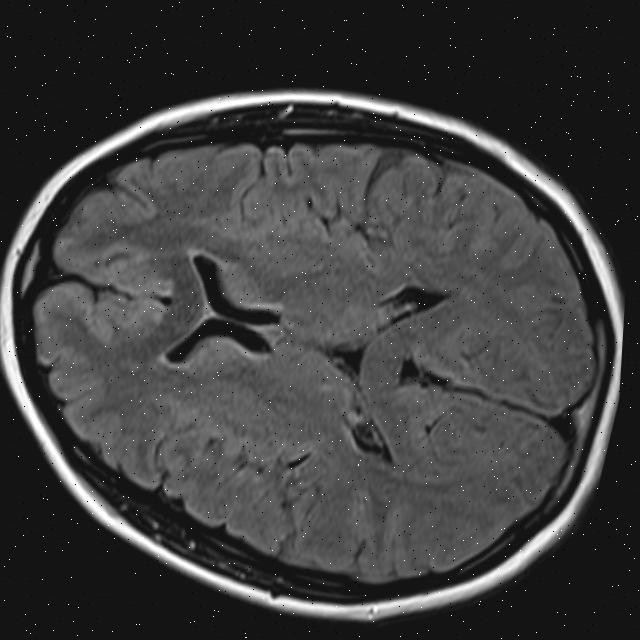NoTumor: (0, 9, 639, 640)
